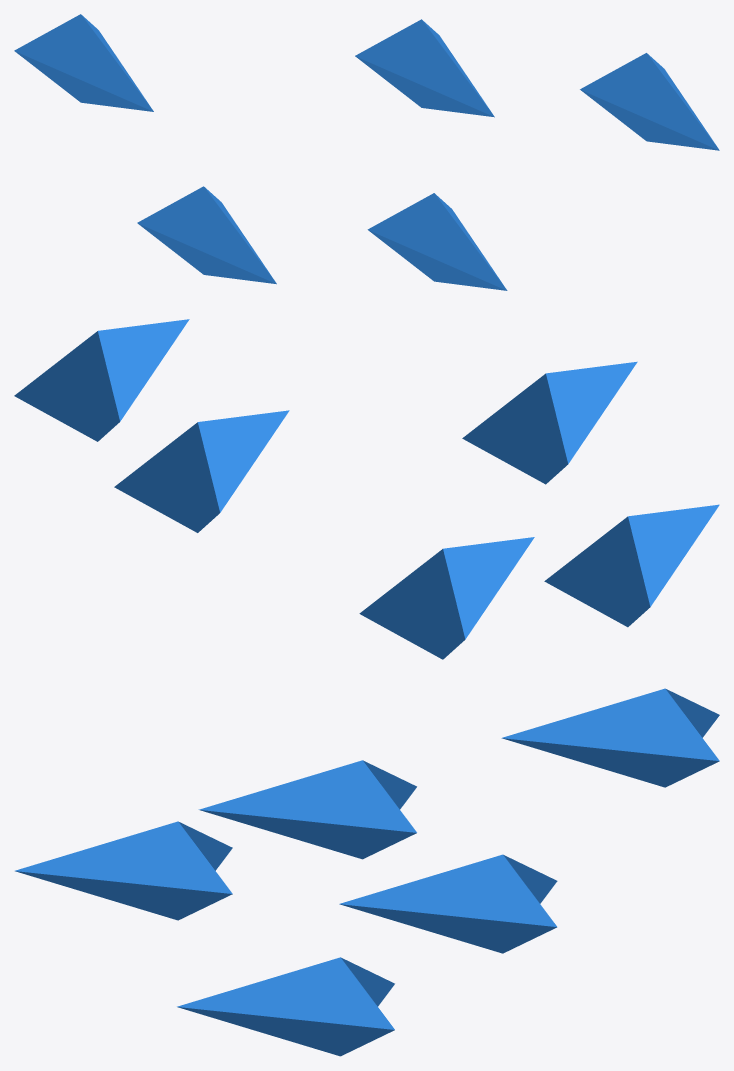
The model's file is MithrilArrowheadStack5.glb.
3 renders of one model, top to bottom at view 1: azimuth 30°, elevation 25°; view 2: azimuth 150°, elevation 25°; view 3: azimuth 270°, elevation 25°, orthographic. The views are drawn at different scales.
Visible parts, largest first — view 1: MithrilArrowheadStack5; view 2: MithrilArrowheadStack5; view 3: MithrilArrowheadStack5.
Boxes of the visible parts, <box> form: MithrilArrowheadStack5: <box>14,14,719,290</box>; MithrilArrowheadStack5: <box>14,319,719,659</box>; MithrilArrowheadStack5: <box>15,688,719,1056</box>.
Bounding box in the file's own units: 0.3089 × 0.0906 × 0.3261.
